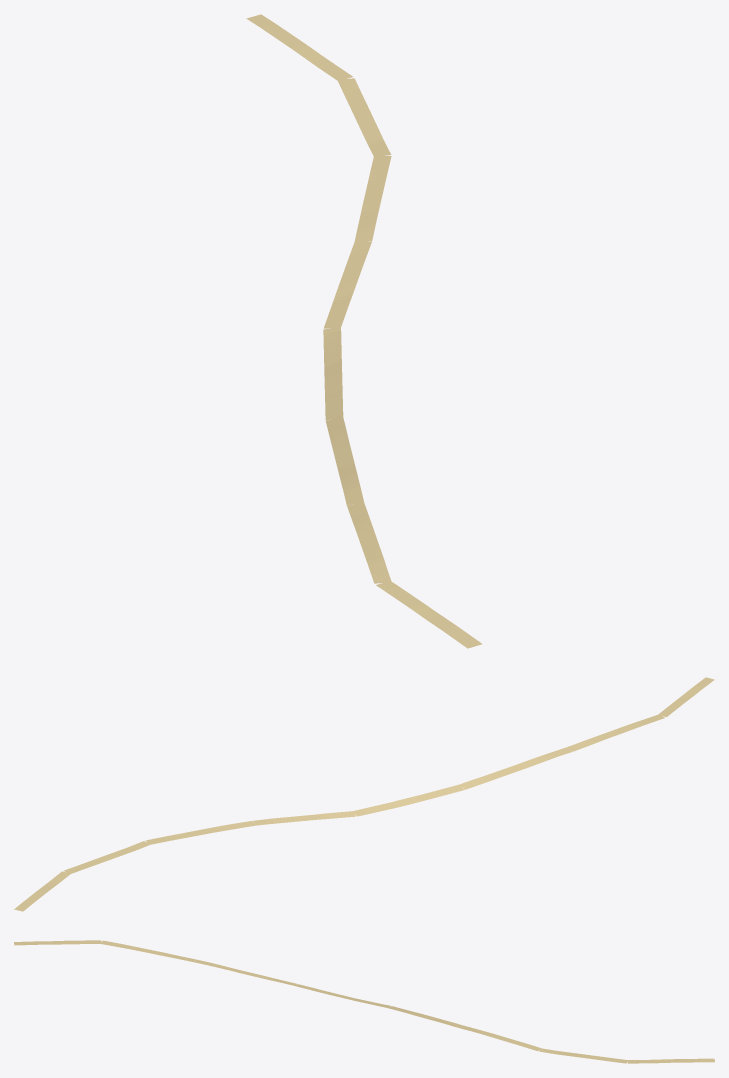
File: Trail_25.glb
The picture shows the model from 3 angles, top to bottom: view 1: azimuth 30°, elevation 25°; view 2: azimuth 150°, elevation 25°; view 3: azimuth 270°, elevation 25°; orthographic projection. The views are drawn at different scales.
Parts seen in each view (by area): view 1: Trail_25; view 2: Trail_25; view 3: Trail_25.
Boxes of the visible parts, x1=… form: Trail_25: x1=246, y1=14, x2=482, y2=648; Trail_25: x1=14, y1=677, x2=714, y2=911; Trail_25: x1=14, y1=940, x2=714, y2=1063.
Bounding box in the file's own units: 57.62 × 1.91 × 139.
